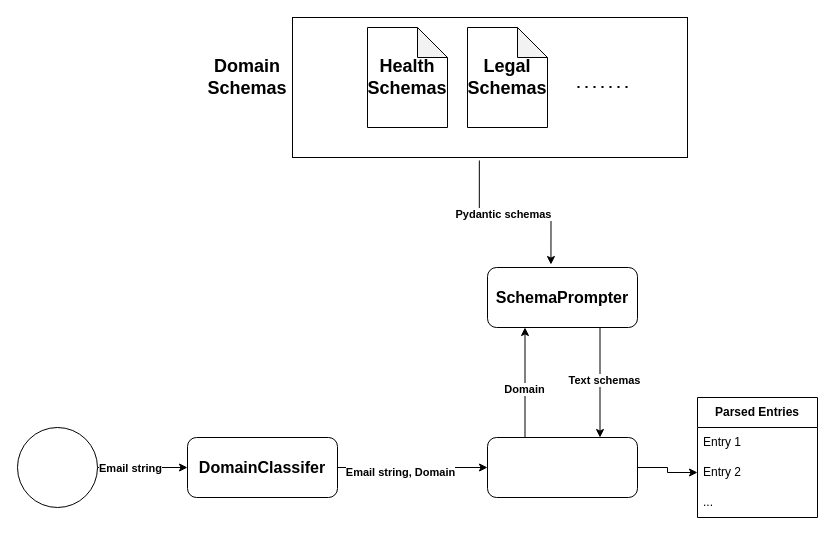
The diagram is 835 pixels wide and 535 high, and some of its shapes have lost their labels. Here are the shapes that lost their labels. From the top down, the centre of each, then its label:
the point at 57,467: Email
the point at 562,467: DomainParser
